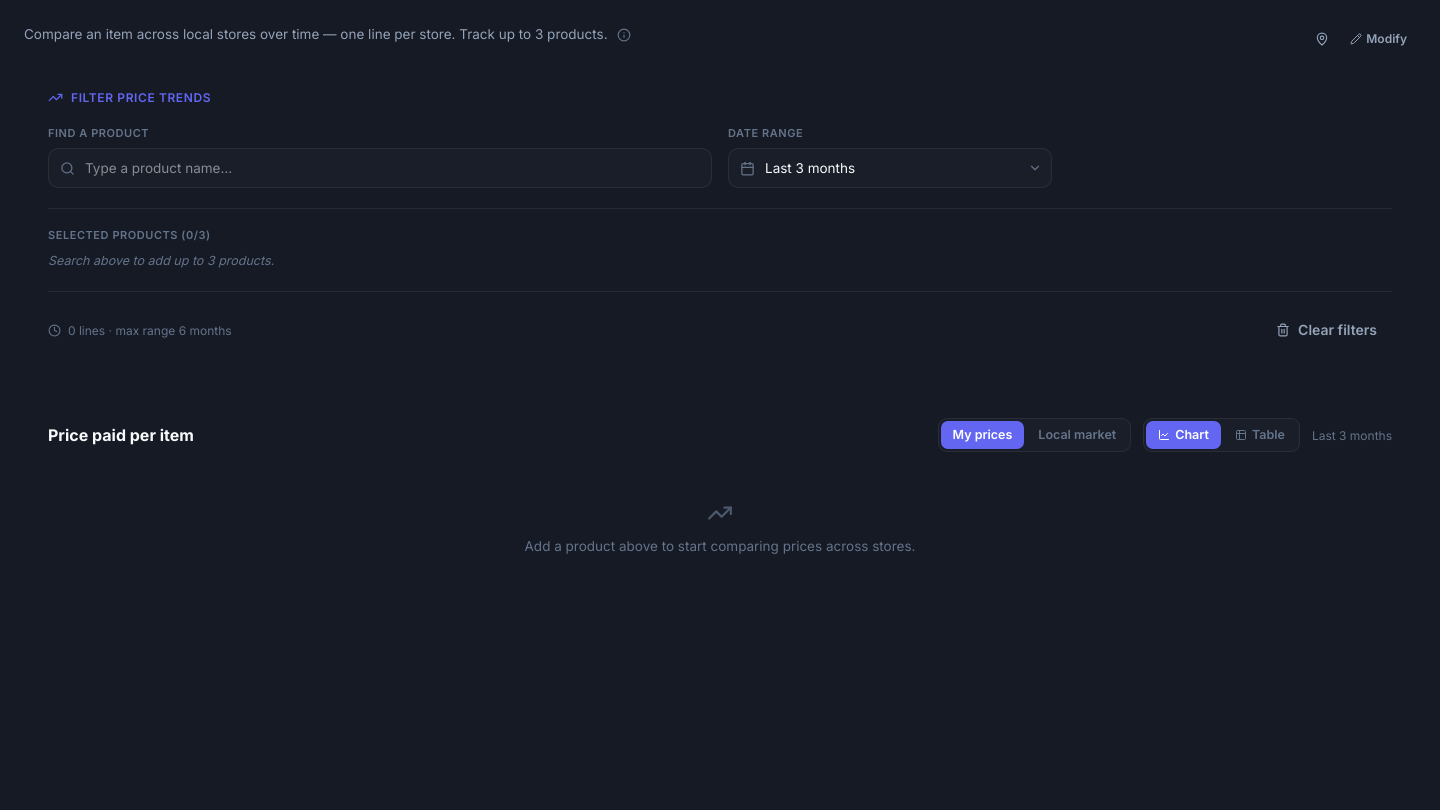
Test: ReportsPage › explains a product the chosen date range hides
Type "melk" into the field with test id "trend-product-search".
click(380, 168); type("melk")  # box [48,148,712,188]
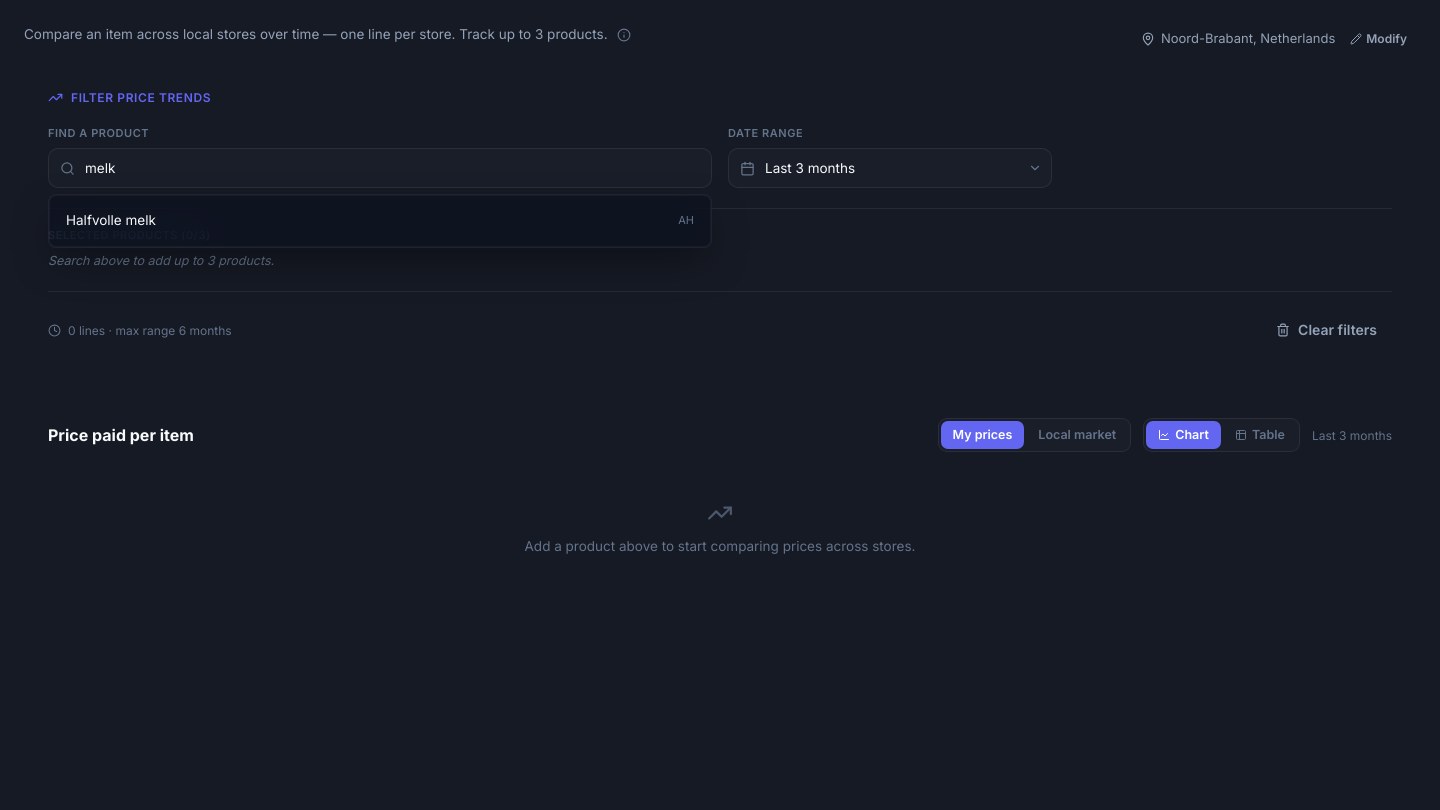
Press the mouse on the text "Halfvolle melk" at (111, 221), box [66,210,156,232]
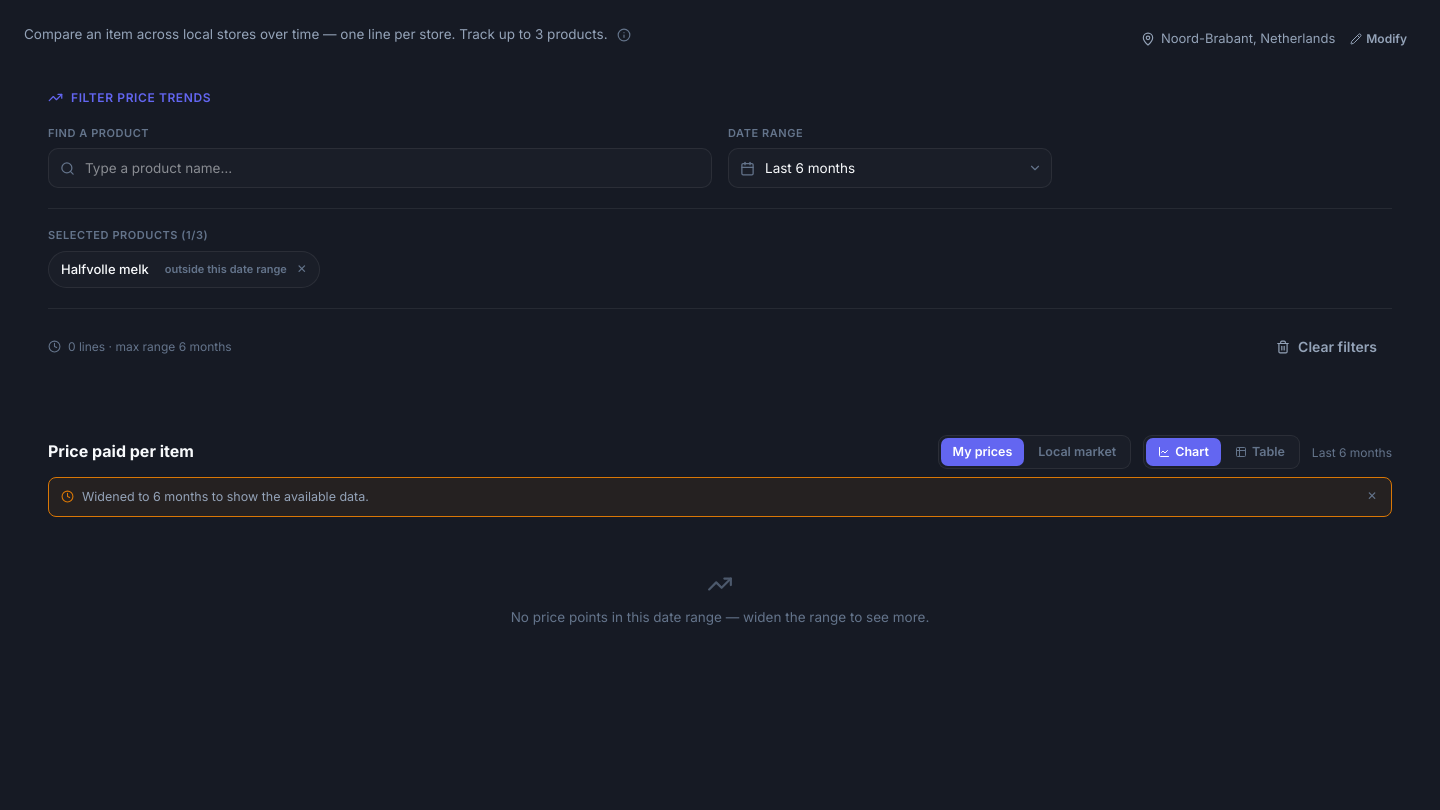
Now the text with test id "trend-chip-note" reads "outside this date range", box [165,262,287,276]
